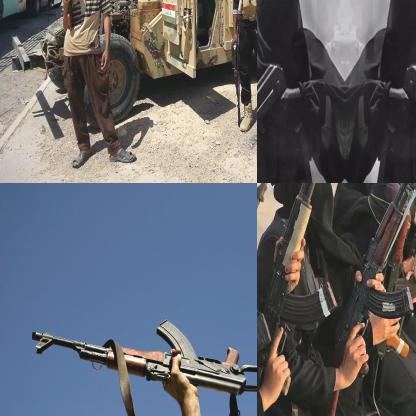rifle: (326, 183, 415, 415), (30, 316, 256, 405), (257, 183, 340, 396), (257, 183, 290, 415), (230, 36, 246, 127)
